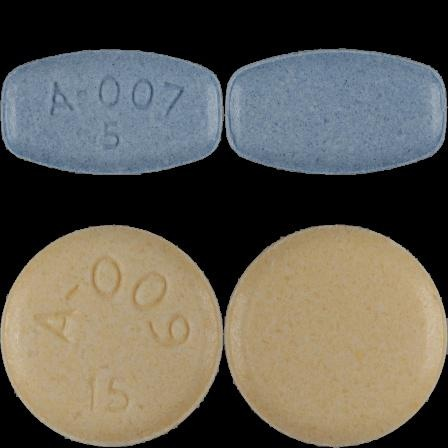49999-816: (0, 0, 224, 224)
